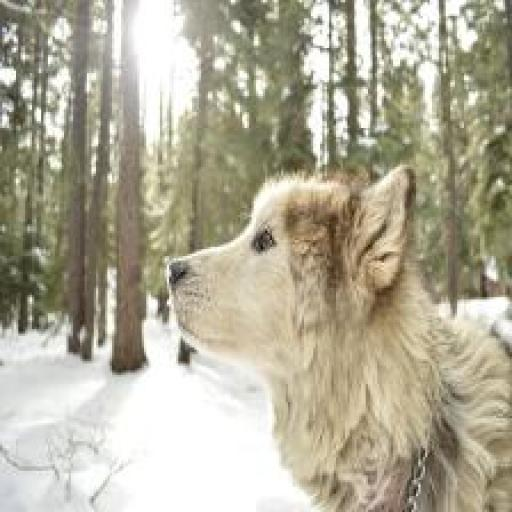wolf: (167, 160, 511, 511)
